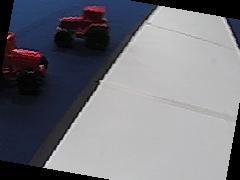Tracktor: (3, 31, 49, 92), (54, 3, 111, 50)
